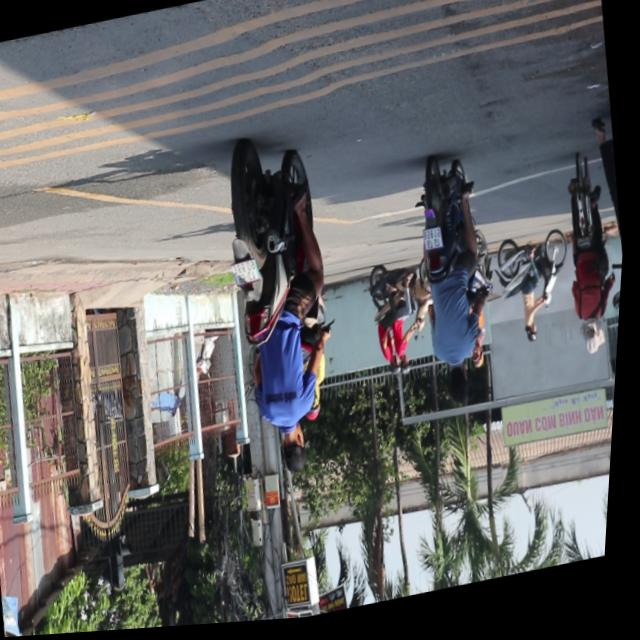licenseplate: (204, 130, 364, 495), (399, 155, 510, 421), (587, 120, 633, 377)
motorcyclist: (280, 425, 316, 482), (445, 368, 475, 414)
nohelmet: (232, 262, 264, 291), (424, 232, 446, 257)
